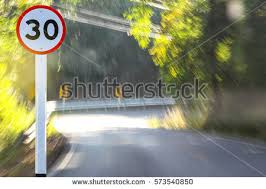Speed_limit_30km: (16, 6, 68, 54)
